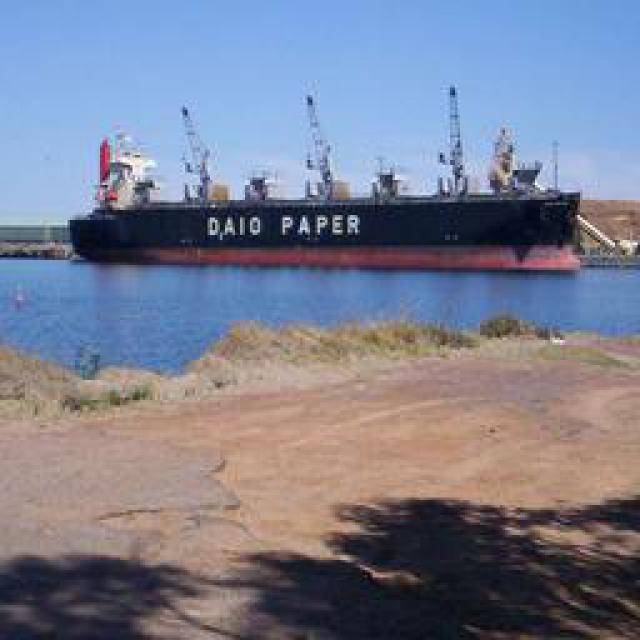Ship: (56, 80, 589, 273)
